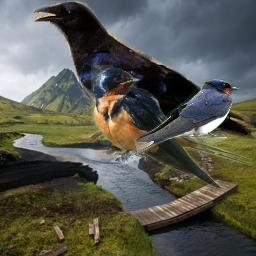Crow: (34, 1, 256, 155)
Swallow: (91, 65, 252, 188), (122, 79, 239, 161)
